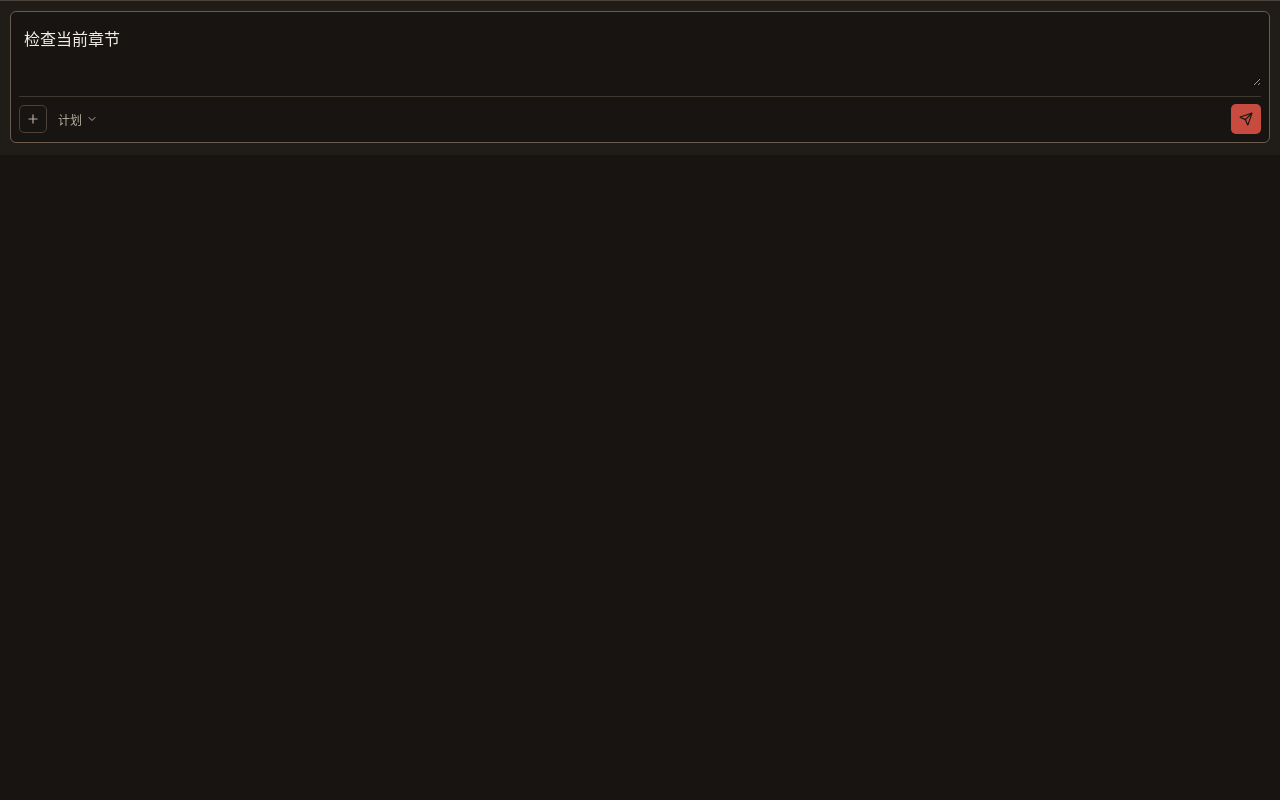
Test: AgentComposer › shows a read-only future execution policy while planning
This screenshot has width=1280, height=800.
Click the button named "添加引用与执行审批".
click(33, 119)  # box [19,105,47,133]
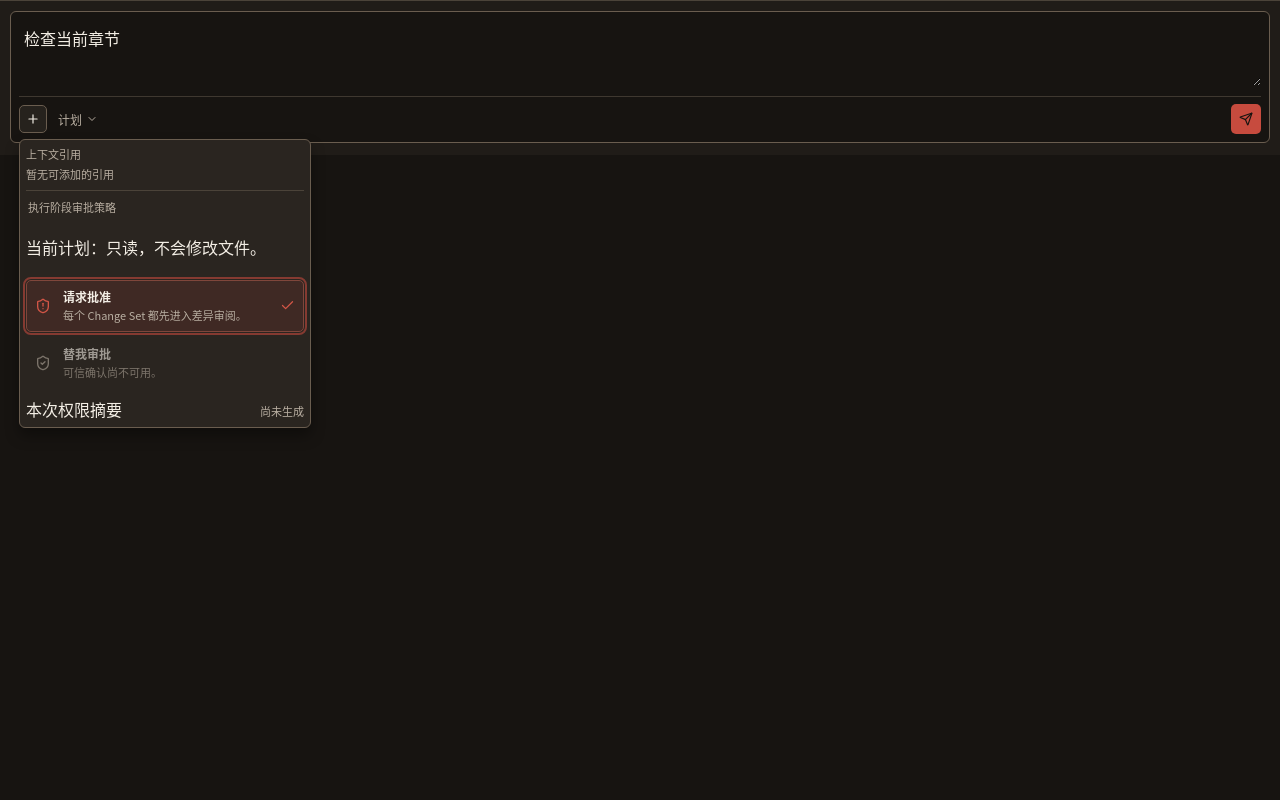
expect the element named "执行阶段审批策略" shows "当前计划：只读，不会修改文件。": met, box [26,235,266,259]
expect the element named "执行阶段审批策略" shows "请求批准": met, box [63,288,111,305]
expect the element named "执行阶段审批策略" shows "替我审批": met, box [63,345,111,362]
Click the button named "添加引用与执行审批".
click(33, 119)  # box [19,105,47,133]
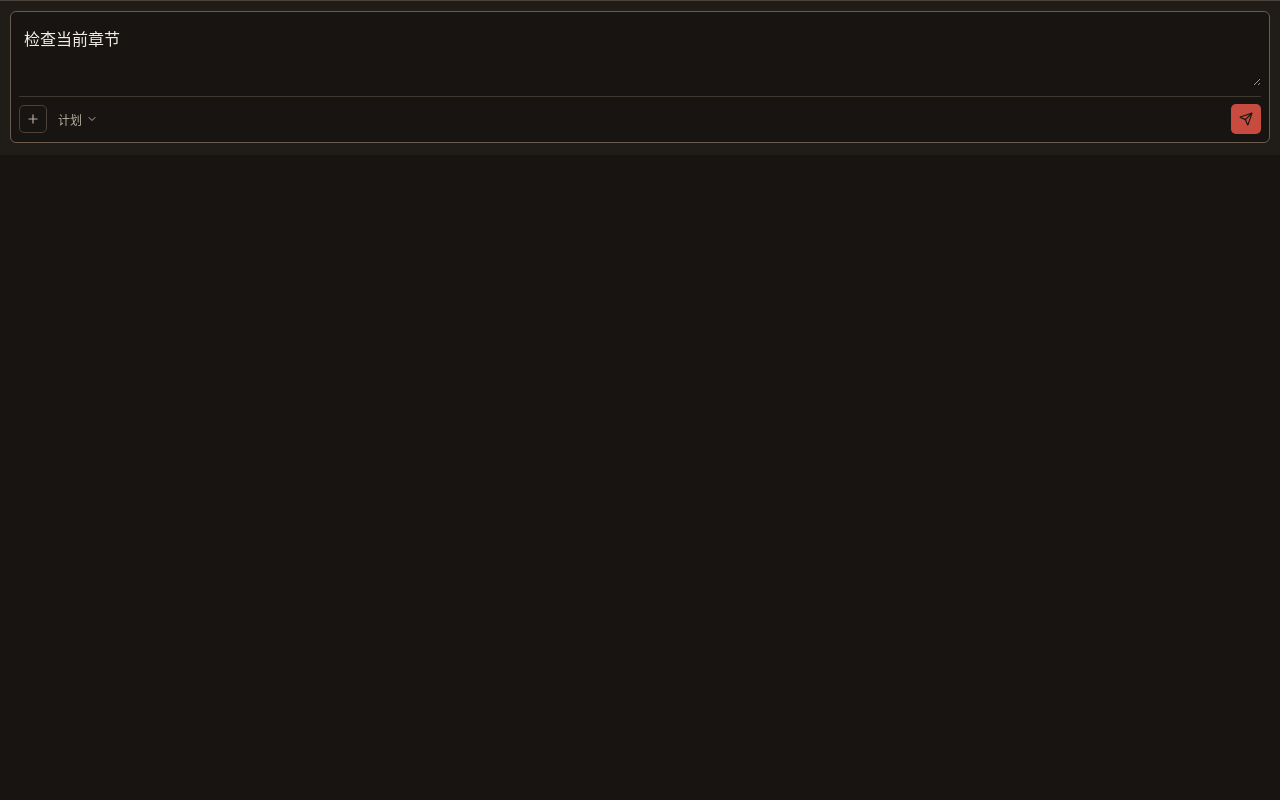
Click the button with aria-label "计划".
click(78, 119)  # box [51,106,105,132]
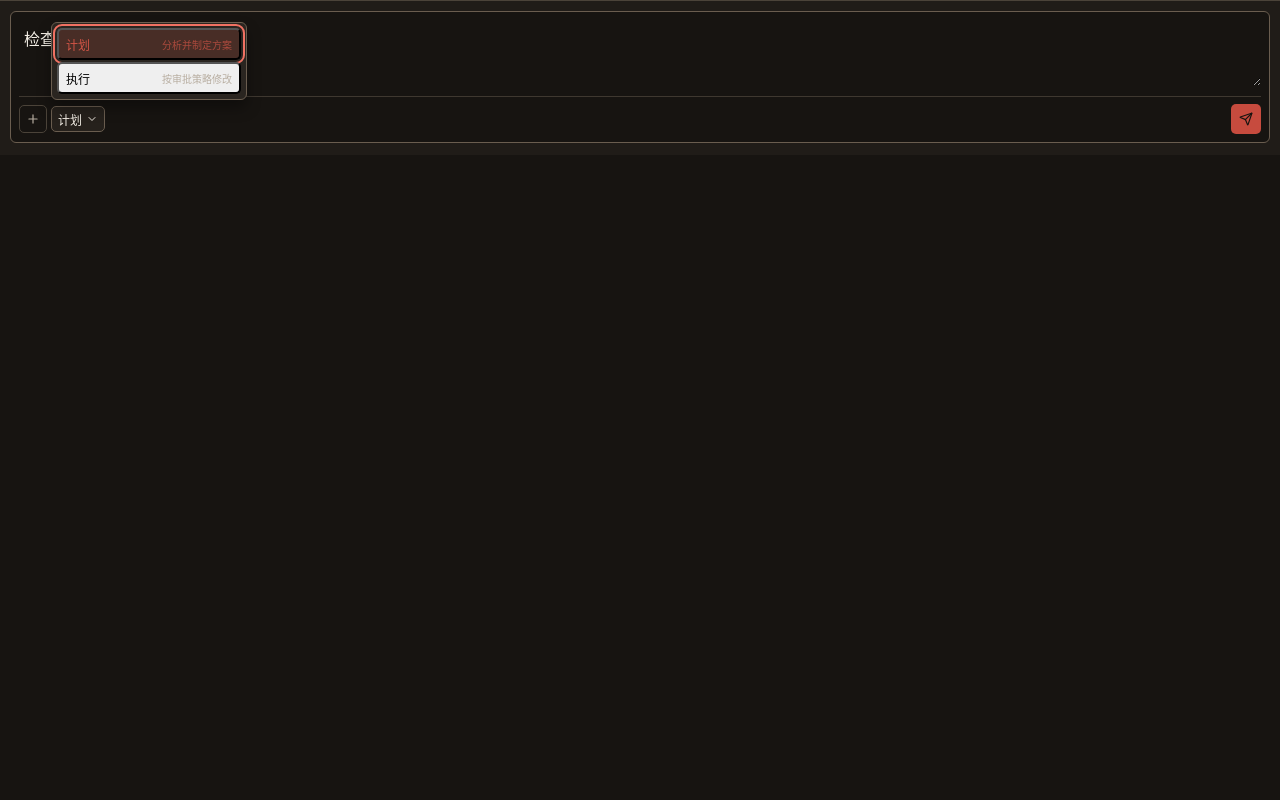
Press Escape in the dialog named "计划或执行模式", box [51,22,247,100]
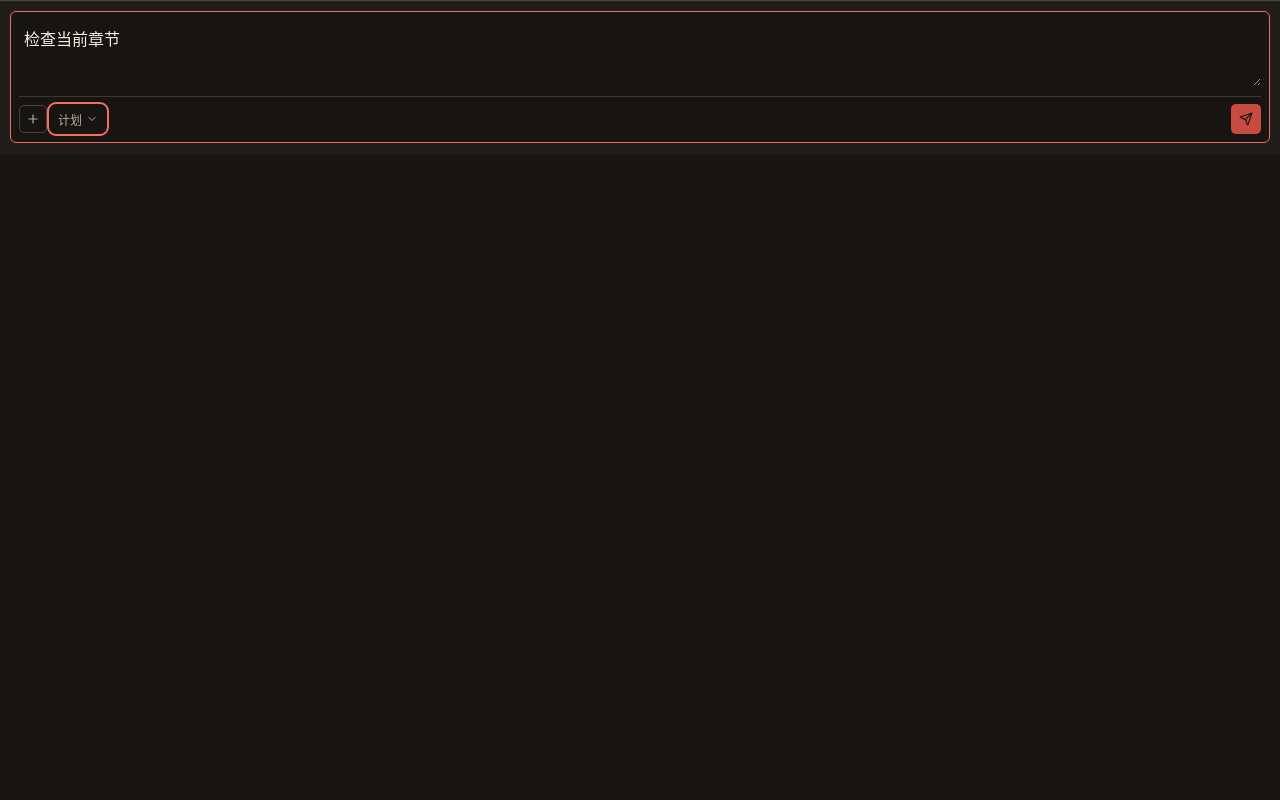
expect the element named "计划或执行模式" is gone: met
